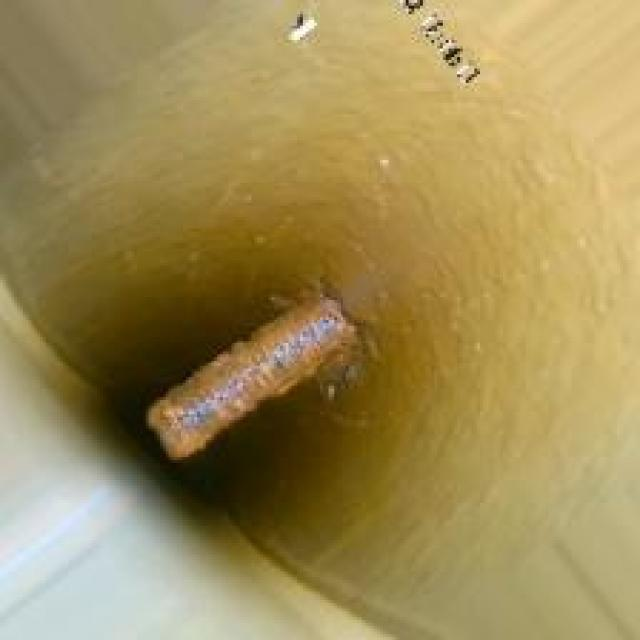ferrule: (140, 286, 351, 460)
